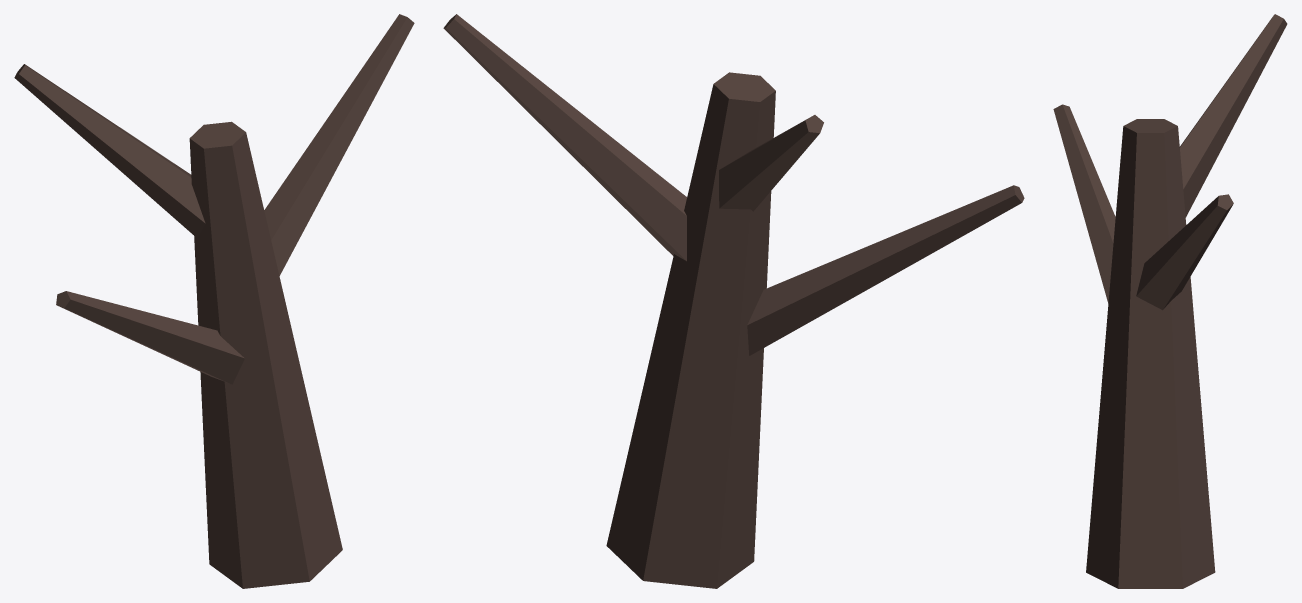
Rendered from EXTG_SouthThorn_01.glb.
The picture shows the model from 3 angles, left to right: view 1: azimuth 30°, elevation 25°; view 2: azimuth 150°, elevation 25°; view 3: azimuth 270°, elevation 25°; orthographic projection. The views are drawn at different scales.
Parts seen in each view (by area): view 1: EXTG_SouthThorn_01; view 2: EXTG_SouthThorn_01; view 3: EXTG_SouthThorn_01.
Boxes of the visible parts, x1,y1,x2,y2 form: EXTG_SouthThorn_01: (14,14,414,588); EXTG_SouthThorn_01: (443,14,1024,588); EXTG_SouthThorn_01: (1053,14,1287,588).
Bounding box in the file's own units: 0.9798 × 1.06 × 0.4705.
